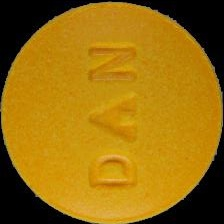54868-0879: (0, 0, 224, 224)
